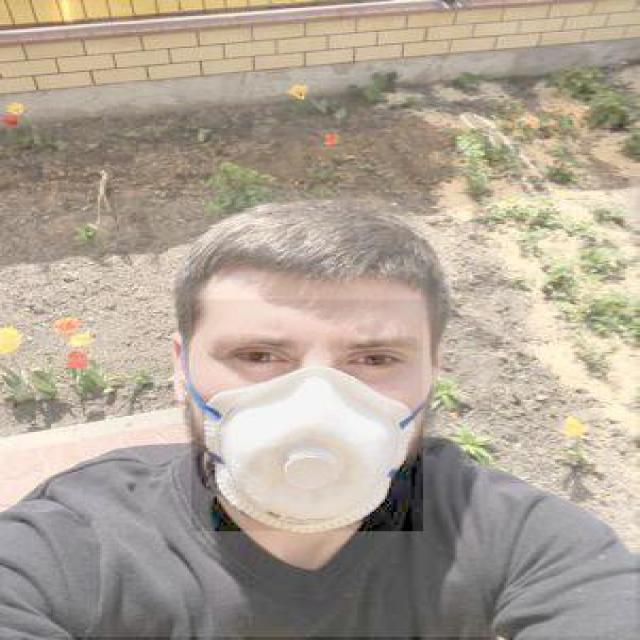face_mask: (192, 299, 426, 533)
head_nohelmet: (174, 197, 434, 302)
person: (0, 191, 638, 638)
